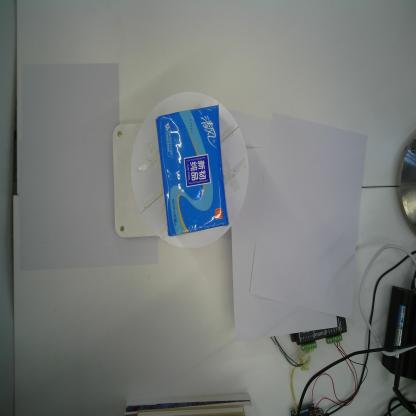Tissue: (154, 104, 231, 238)
